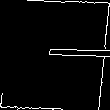L_W: (4, 38, 106, 72)
